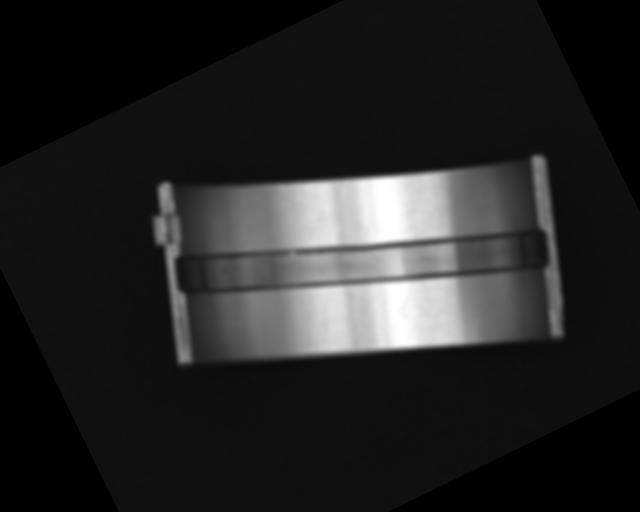gap: (166, 108, 559, 414)
nick: (309, 305, 340, 344)
